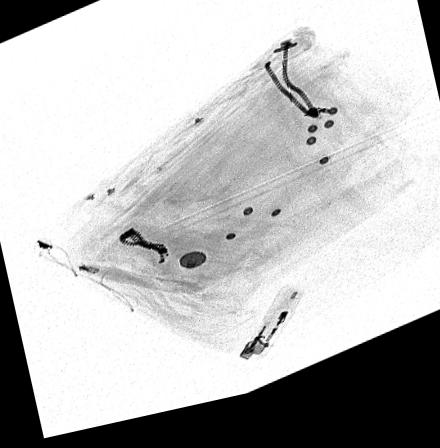Lighter: (237, 296, 304, 371)
